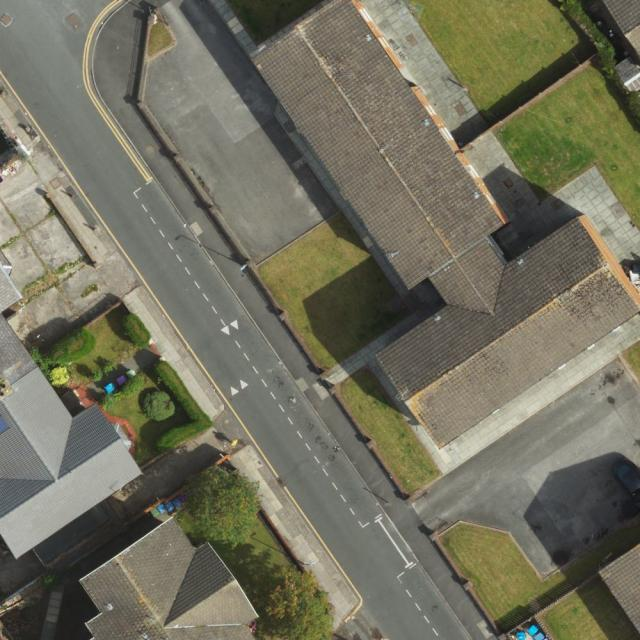roof: (251, 0, 640, 450), (0, 262, 145, 559), (80, 516, 259, 639), (599, 545, 640, 635)
skylight: (0, 414, 11, 437)
